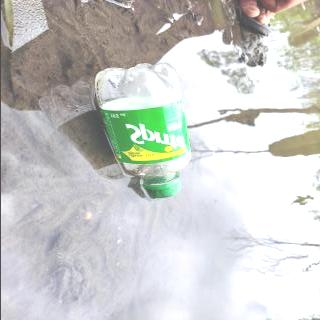bottle: (86, 60, 195, 201)
